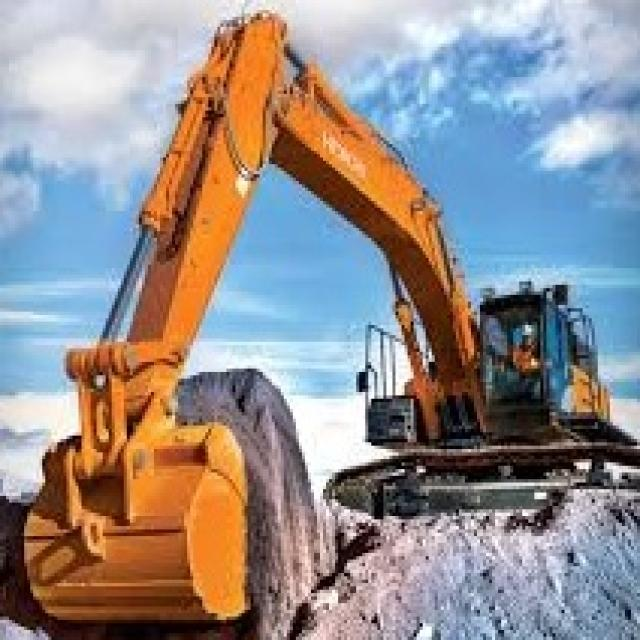excavator: (337, 285, 627, 519)
